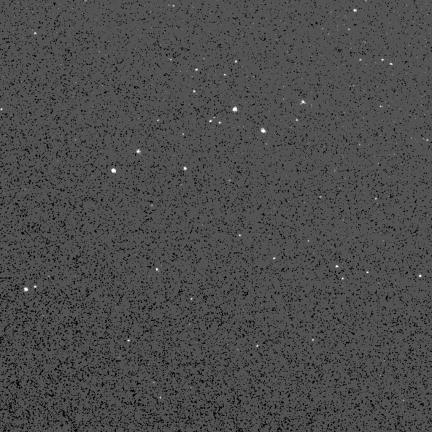blob: (261, 128, 267, 133), (233, 107, 237, 112), (111, 169, 116, 173), (136, 149, 141, 153), (301, 100, 305, 104), (419, 275, 423, 279), (209, 120, 213, 123), (34, 285, 37, 289), (193, 90, 197, 93), (156, 268, 159, 272), (195, 69, 199, 72), (354, 9, 357, 12), (25, 288, 28, 291), (184, 167, 187, 170), (273, 257, 276, 260), (390, 63, 393, 66), (34, 32, 37, 35), (336, 265, 339, 268), (235, 60, 238, 63), (257, 345, 259, 348), (382, 59, 384, 62)
